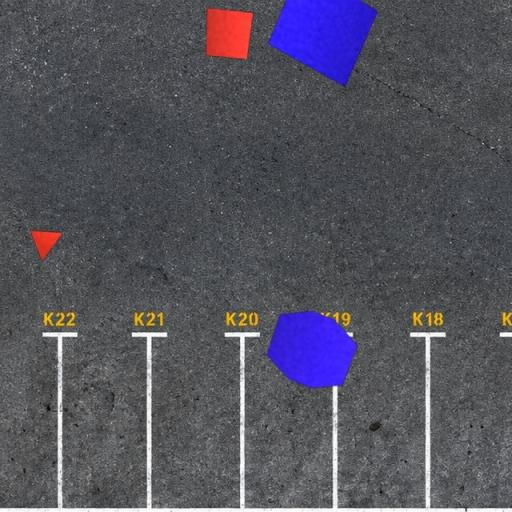BLUE_SQUARE: (268, 0, 378, 88)
RED_SQUARE: (205, 7, 254, 60)
